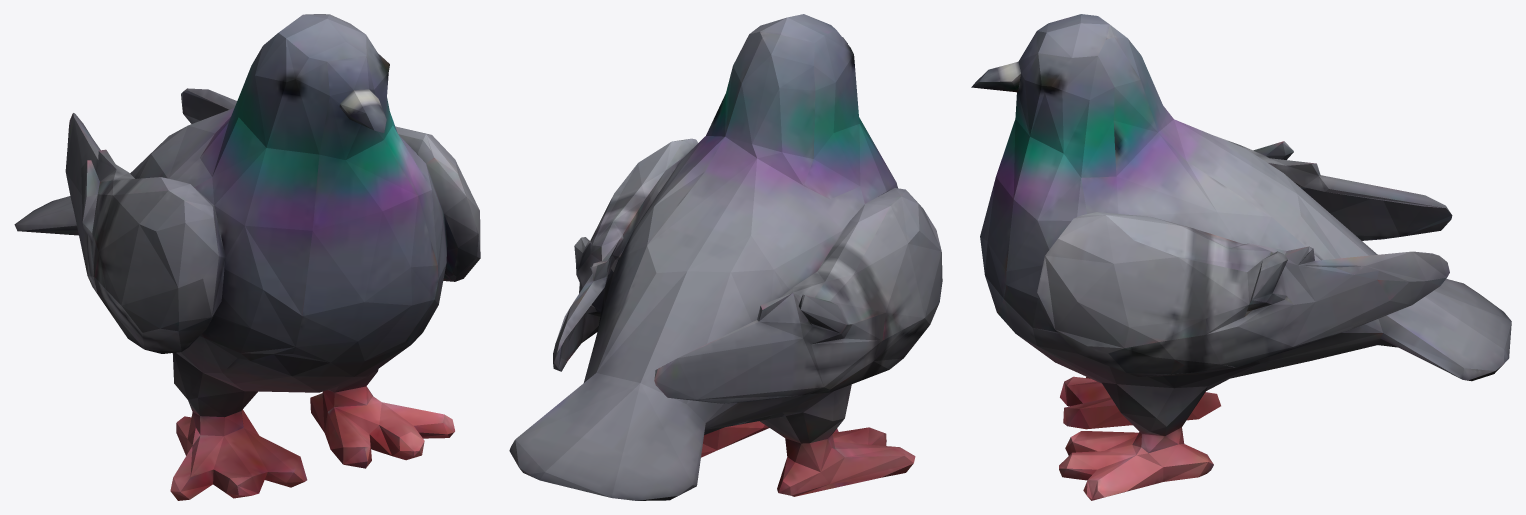
File: pigeon.glb
3 views of the same model, side by side, from view 1: azimuth 30°, elevation 25°; view 2: azimuth 150°, elevation 25°; view 3: azimuth 270°, elevation 25° (orthographic). The views are drawn at different scales.
Parts seen in each view (by area): view 1: geometry_0; view 2: geometry_0; view 3: geometry_0.
Boxes of the visible parts, <box> form: geometry_0: <box>14,14,480,500</box>; geometry_0: <box>509,14,942,500</box>; geometry_0: <box>971,14,1511,500</box>.
Bounding box in the file's own units: 0.663 × 0.858 × 0.9918.
1 material, 1 textured.
